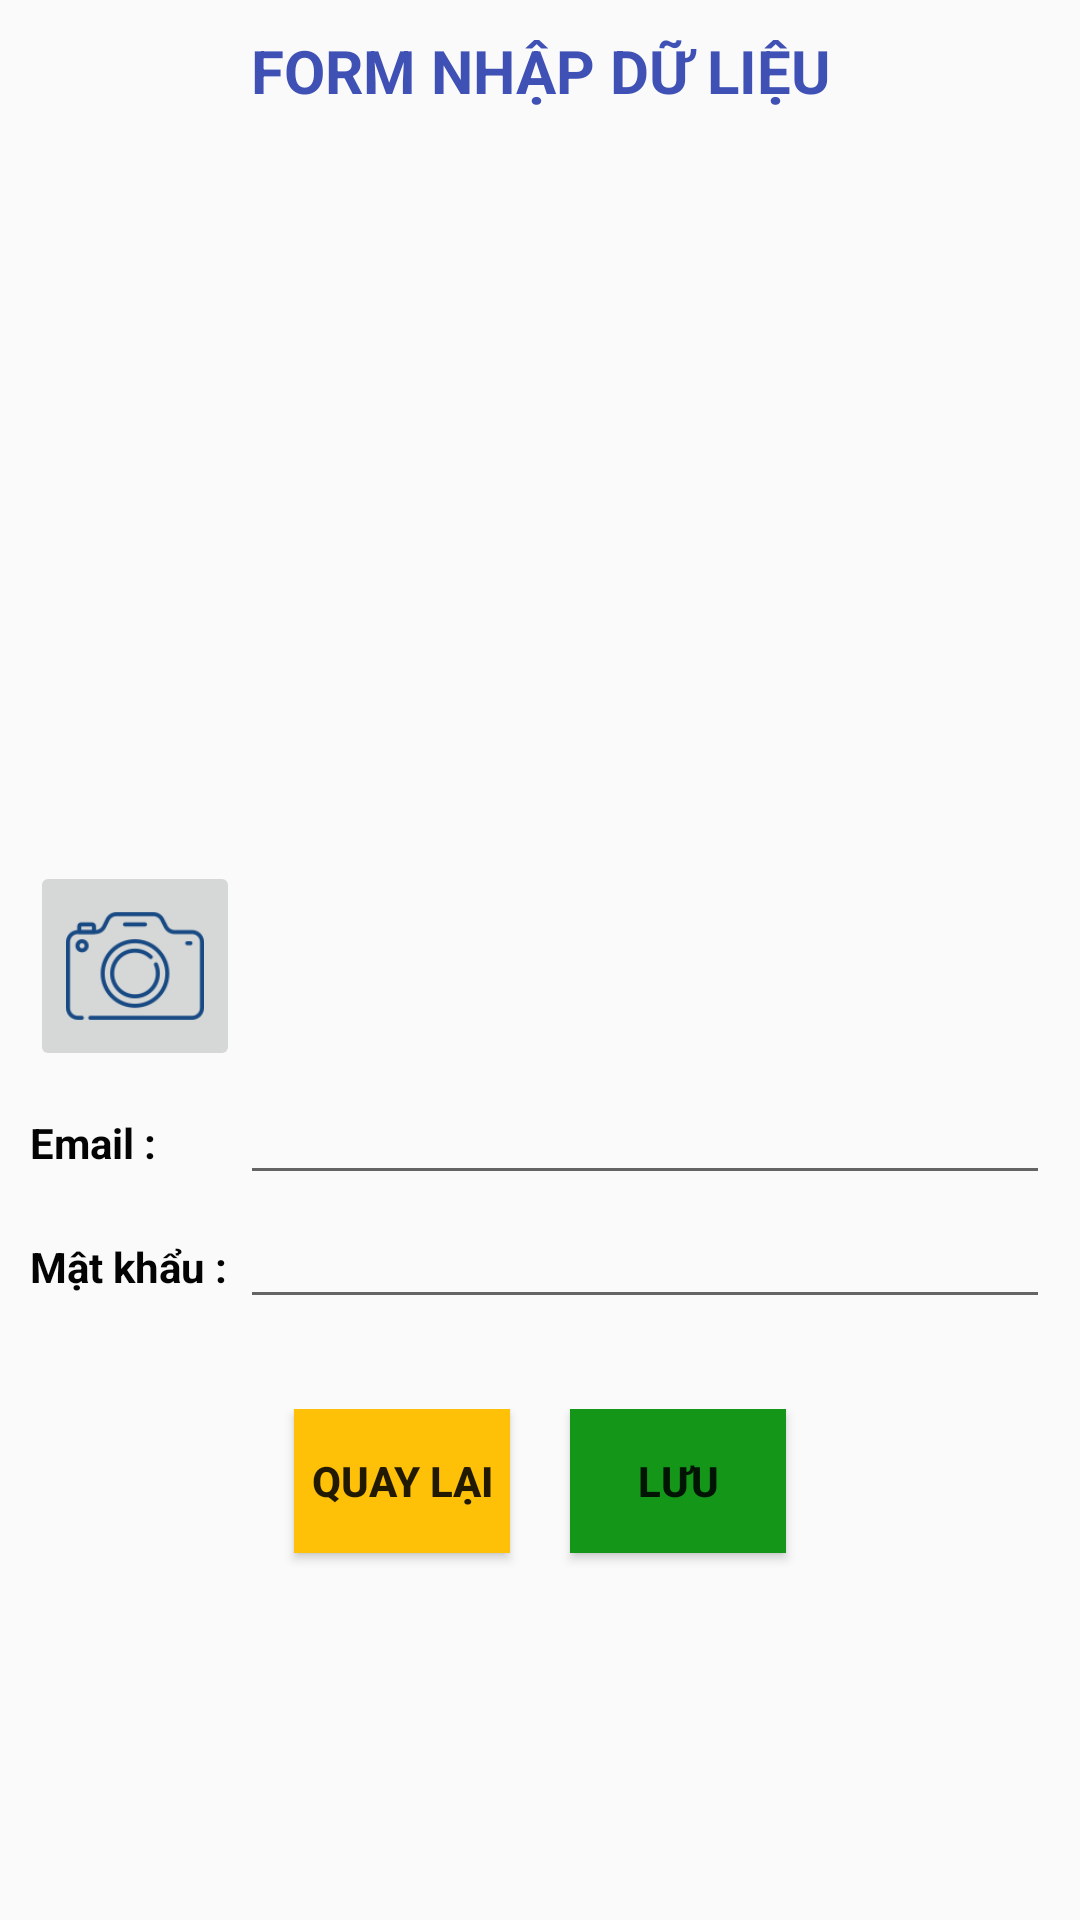

Icons on this 1080px x 1920px Android screen, each with its box as (x1, y1, x2, y2):
camera: (42, 879, 228, 1053)
